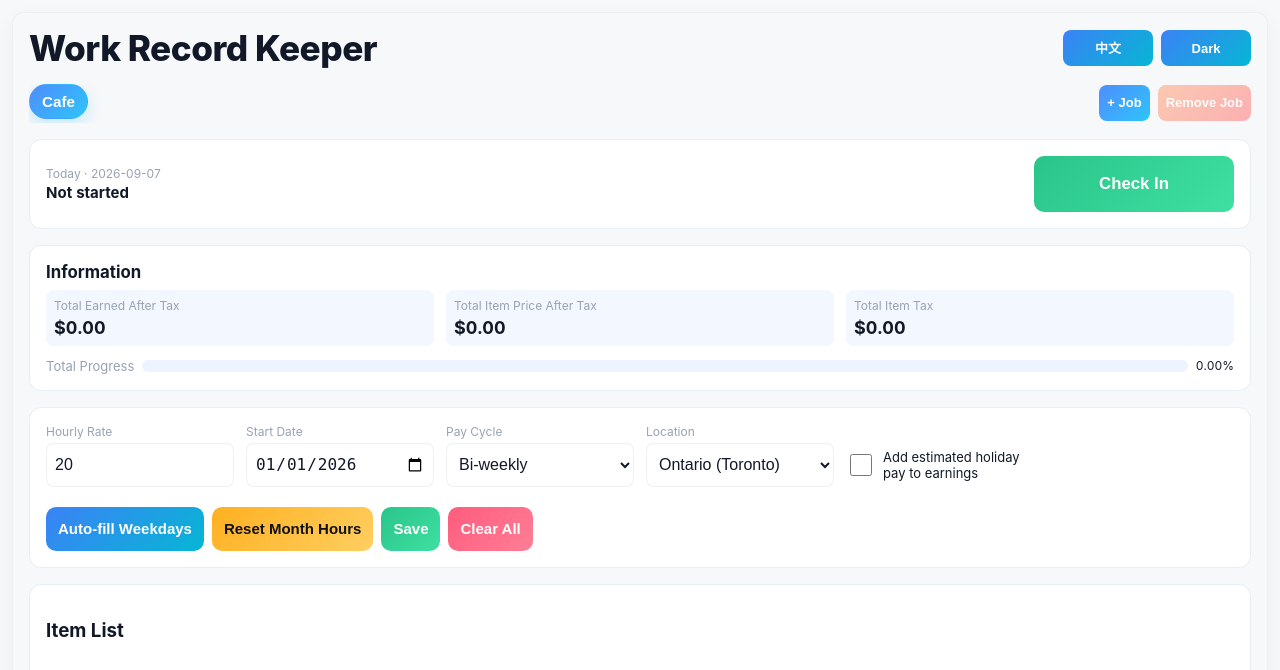
checking in stamps a start time and offers the check out
This screenshot has width=1280, height=670.
Click the button with class "check-btn". click: (1134, 184)
box: [1034,156,1234,212]
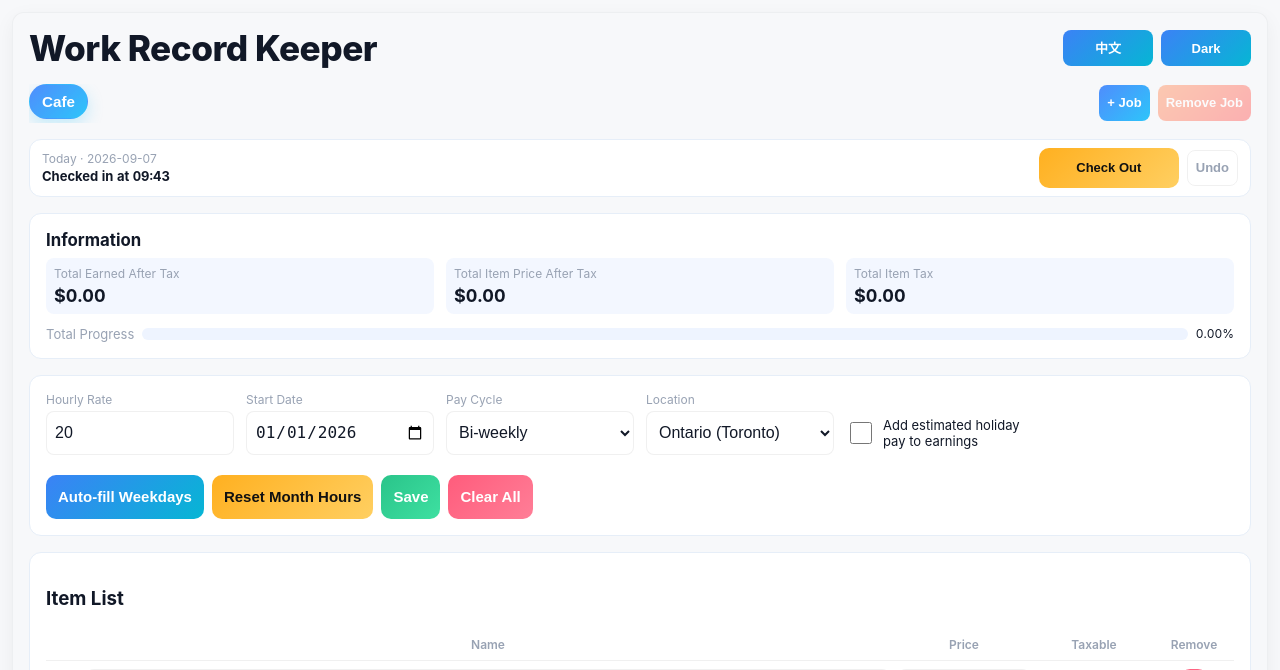
Result: the button with class "check-btn" reads "Check Out" at [1039,148,1179,188]
Result: the text with class "check-status" shows "Checked in at" at [42,168,170,184]
